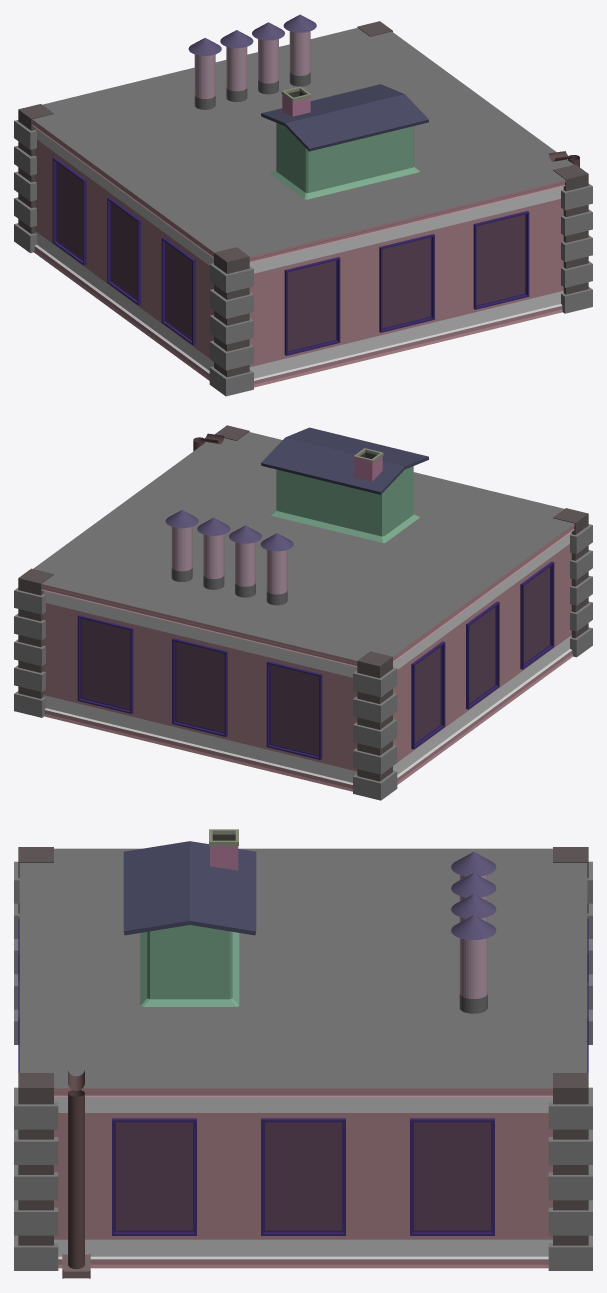
The model's file is SchoolAnnexN0.0.0 1.fbx.
The picture shows the model from 3 angles, top to bottom: view 1: azimuth 30°, elevation 25°; view 2: azimuth 150°, elevation 25°; view 3: azimuth 270°, elevation 25°; orthographic projection. The views are drawn at different scales.
Parts seen in each view (by area): view 1: Cube.016, Plane.006, Cube.017, SmallHome.004, Cylinder.024, SmallHomeRoof.001, Cube.018, Cube.019; view 2: Cube.016, Plane.006, Cube.017, SmallHome.004, Cylinder.024, SmallHomeRoof.001, Cube.018, Cube.019; view 3: Cube.016, Plane.006, Cube.017, SmallHomeRoof.001, SmallHome.004, Cube.018, Cylinder.024, Cylinder.020, Cube.019.
Part boxes in pixels (box(x1,y1,x2,y2)): Cube.016: box(32, 27, 573, 387); Plane.006: box(52, 157, 529, 355); Cube.017: box(14, 120, 592, 396); SmallHome.004: box(270, 123, 419, 199); Cylinder.024: box(188, 14, 316, 109); SmallHomeRoof.001: box(261, 84, 428, 151); Cube.018: box(18, 21, 588, 377); Cube.019: box(281, 86, 311, 116); Cube.016: box(33, 432, 574, 791); Plane.006: box(77, 561, 554, 759); Cube.017: box(14, 524, 592, 800); SmallHome.004: box(270, 466, 419, 542); Cylinder.024: box(165, 510, 293, 605); SmallHomeRoof.001: box(261, 427, 428, 494); Cube.018: box(18, 425, 588, 781); Cube.019: box(353, 448, 383, 481); Cube.016: box(19, 848, 587, 1268); Plane.006: box(18, 918, 588, 1235); Cube.017: box(14, 861, 592, 1270); SmallHomeRoof.001: box(123, 841, 256, 935); SmallHome.004: box(140, 925, 239, 1006); Cube.018: box(18, 847, 588, 1245); Cylinder.024: box(451, 852, 496, 1013); Cylinder.020: box(62, 1090, 90, 1278); Cube.019: box(209, 829, 238, 870).
Bounding box in the file's own units: 1052 × 561 × 1020.
